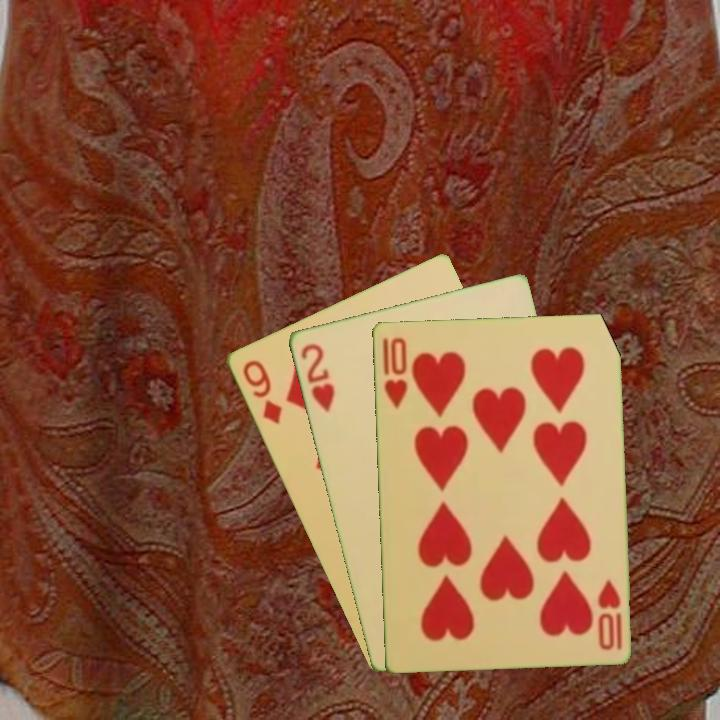10h: (378, 333, 410, 411), (593, 576, 625, 653)
2h: (297, 339, 337, 415)
9d: (238, 356, 285, 428)
